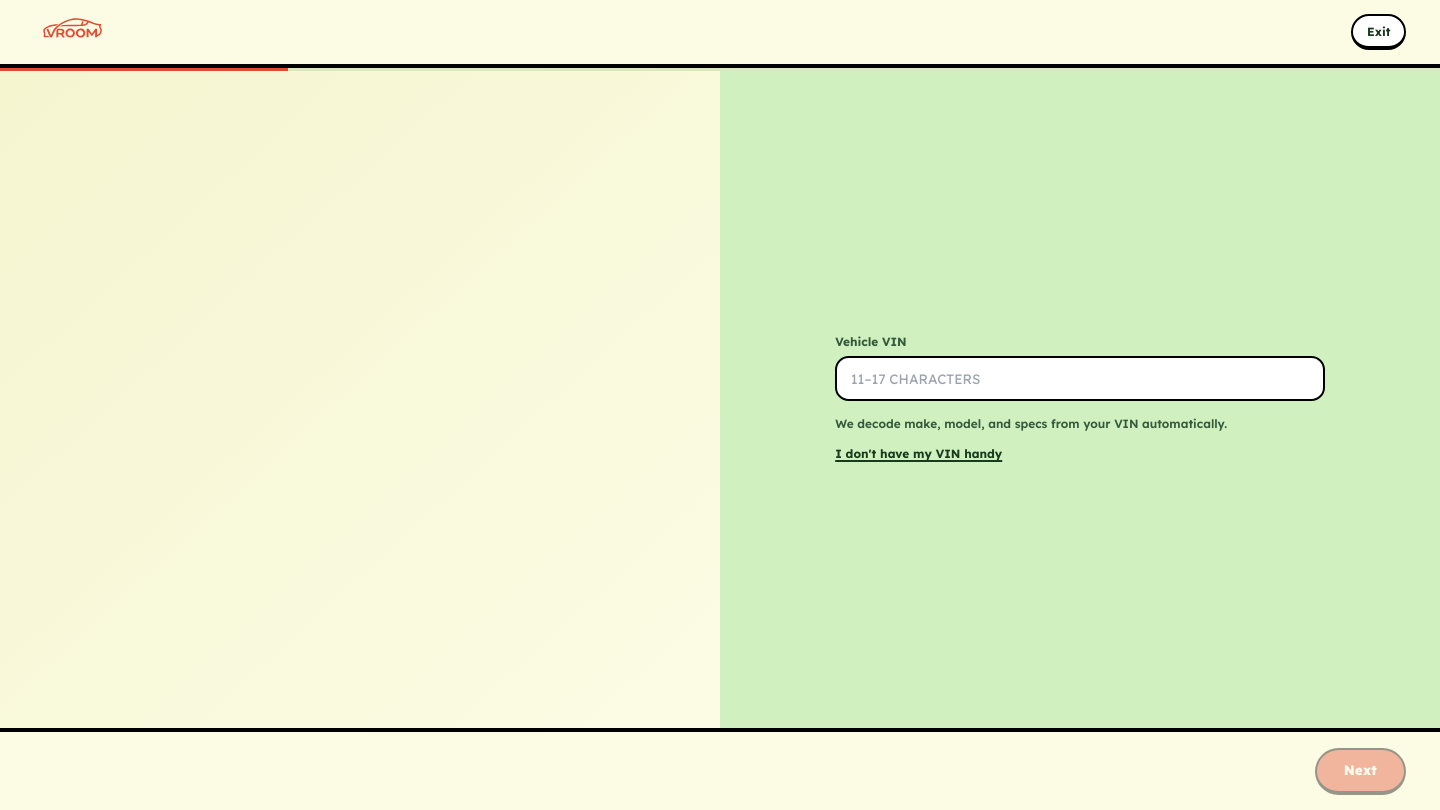
Test case: HostOnboardingFlow — VIN step › Next stays disabled until VIN is valid
This screenshot has width=1440, height=810.
Expected: the button "Next" is disabled, [1315,748,1406,795]
In the field with placeholder "11–17 characters": (1080,379) [835,356,1325,401], type "1HGCM82633A004352"
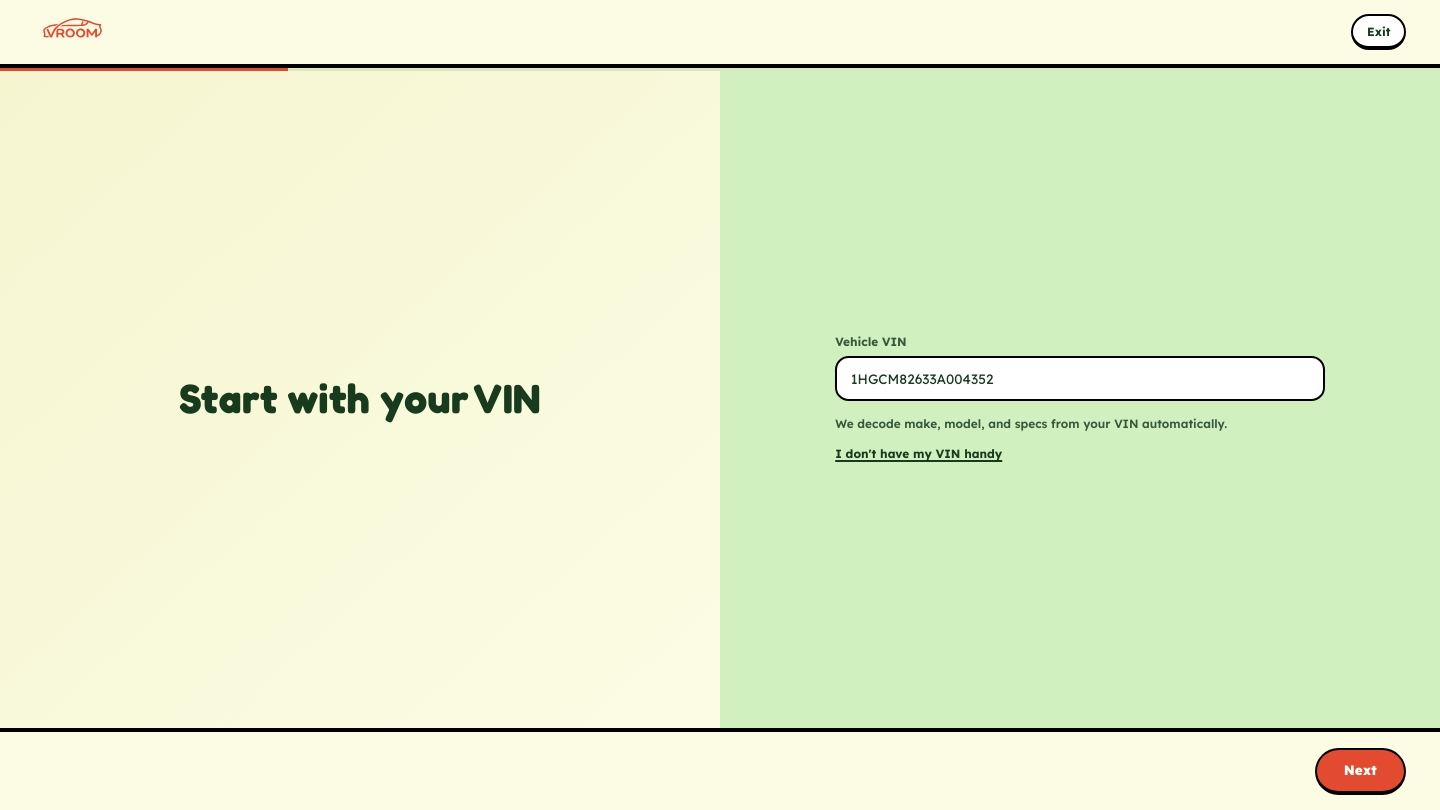
Result: the button "Next" is enabled at [1315,748,1406,795]
